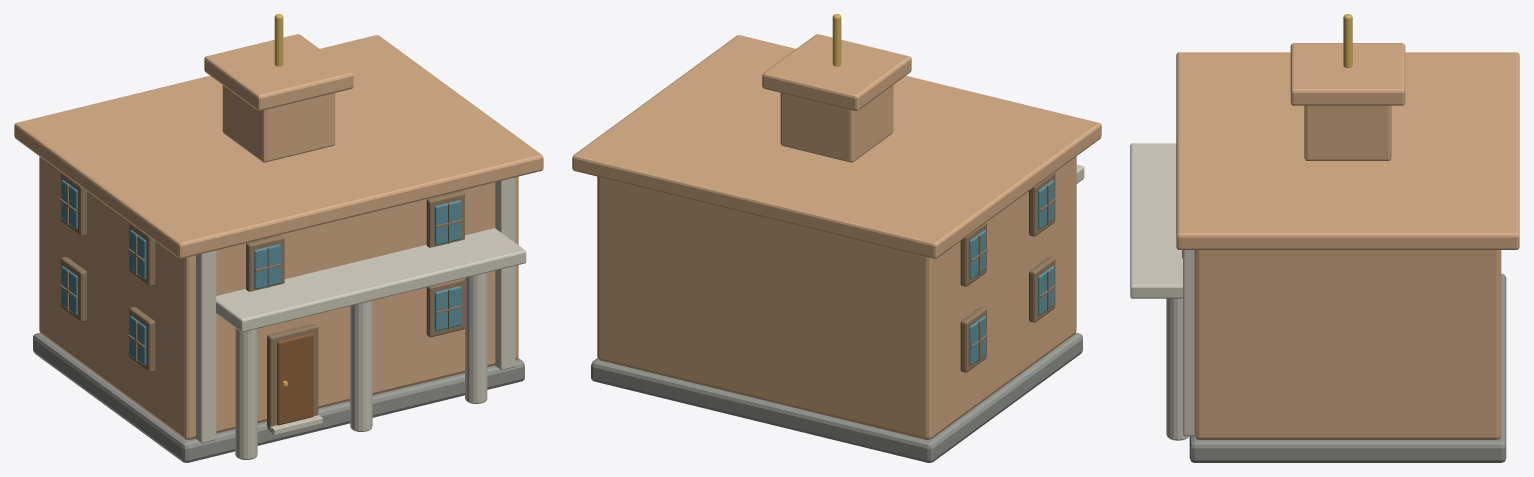
The model's file is arid-civic-1.glb.
3 views of the same model, side by side, from view 1: azimuth 30°, elevation 25°; view 2: azimuth 150°, elevation 25°; view 3: azimuth 270°, elevation 25° (orthographic). The views are drawn at different scales.
Visible parts, largest first — view 1: Adobe cream, Adobe warm_stone, Cut limestone, Foundation stone, Palm beams, Blue glass, Door oak, Warm brass; view 2: Adobe warm_stone, Adobe cream, Foundation stone, Palm beams, Blue glass; view 3: Adobe cream, Adobe warm_stone, Cut limestone, Foundation stone, Warm brass.
Boxes of the visible parts, left/top/right/bottom form: Adobe cream: left=14, top=34, right=543, bottom=258; Adobe warm_stone: left=39, top=156, right=518, bottom=439; Cut limestone: left=195, top=177, right=526, bottom=459; Foundation stone: left=33, top=333, right=524, bottom=462; Palm beams: left=59, top=172, right=464, bottom=428; Blue glass: left=61, top=180, right=461, bottom=365; Door oak: left=277, top=333, right=313, bottom=425; Warm brass: left=274, top=14, right=288, bottom=386; Adobe warm_stone: left=597, top=156, right=1076, bottom=439; Adobe cream: left=572, top=34, right=1101, bottom=258; Foundation stone: left=591, top=333, right=1082, bottom=462; Palm beams: left=960, top=172, right=1056, bottom=372; Blue glass: left=969, top=180, right=1054, bottom=365; Adobe cream: left=1176, top=43, right=1519, bottom=249; Adobe warm_stone: left=1194, top=250, right=1501, bottom=439; Cut limestone: left=1130, top=143, right=1194, bottom=440; Foundation stone: left=1189, top=273, right=1506, bottom=462; Warm brass: left=1343, top=14, right=1352, bottom=67.
Bounding box in the file's own units: 5.24 × 4.84 × 4.7.
